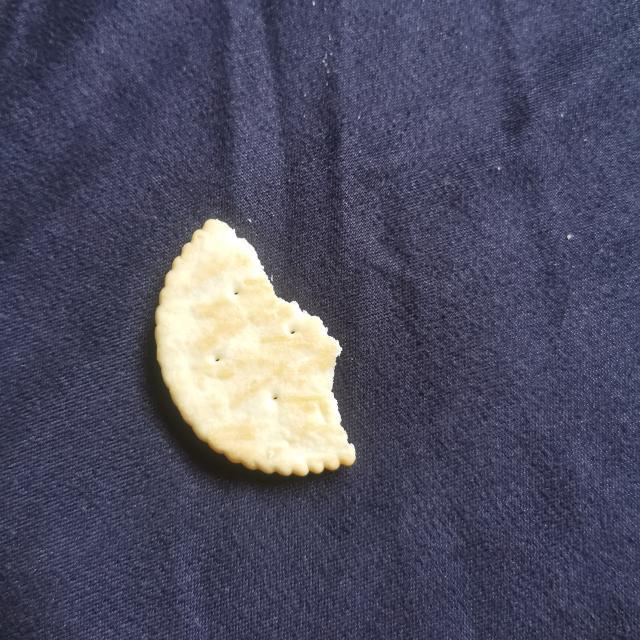Broken: (153, 218, 357, 478)
